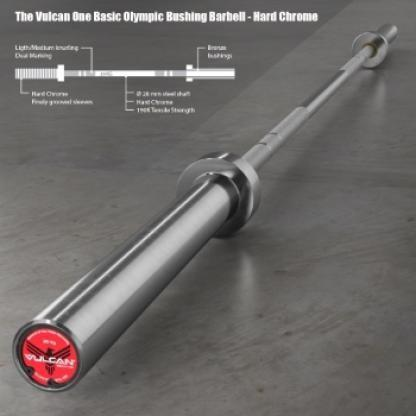Barbell: (8, 303, 97, 403)
